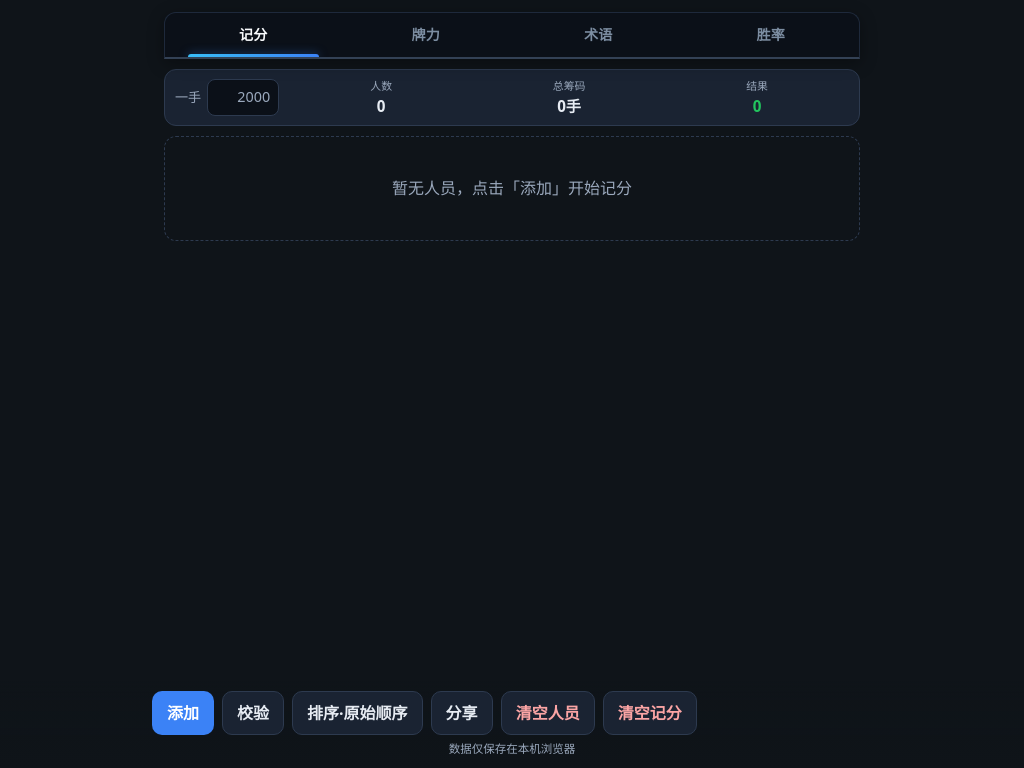
Test case: App integration › validates checksum messages
This screenshot has width=1024, height=768.
Step 1. Click the button "添加" → [183, 713], box [152,691,214,735]
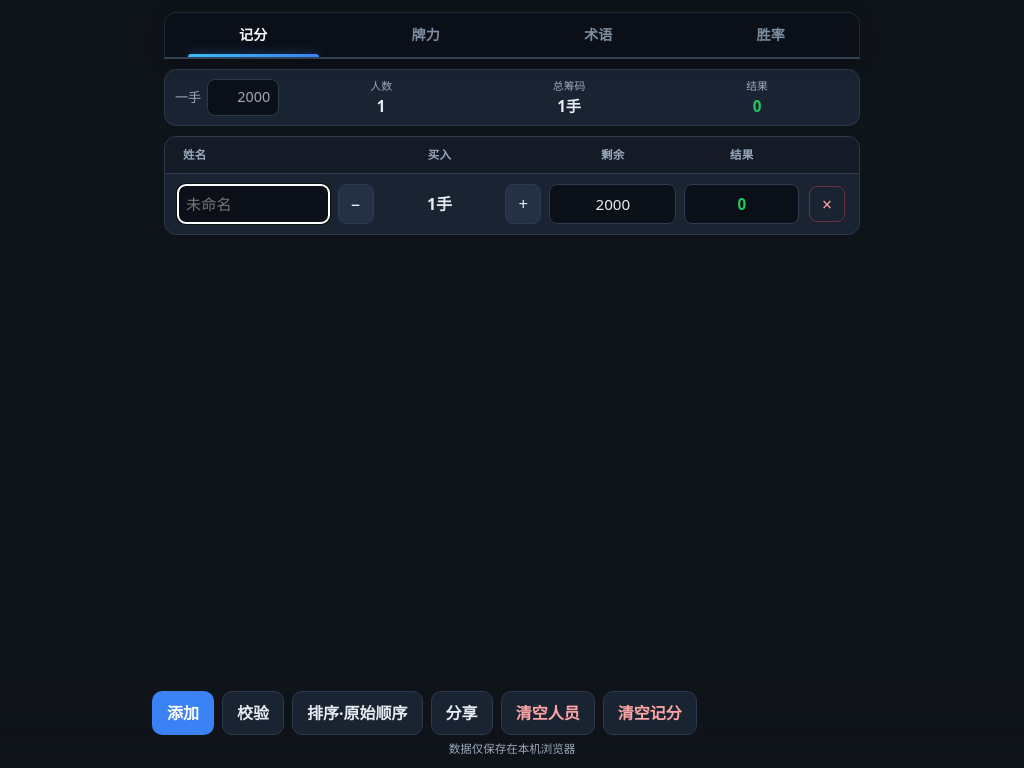
Step 2. Click the button "校验" → [253, 713], box [222,691,284,735]
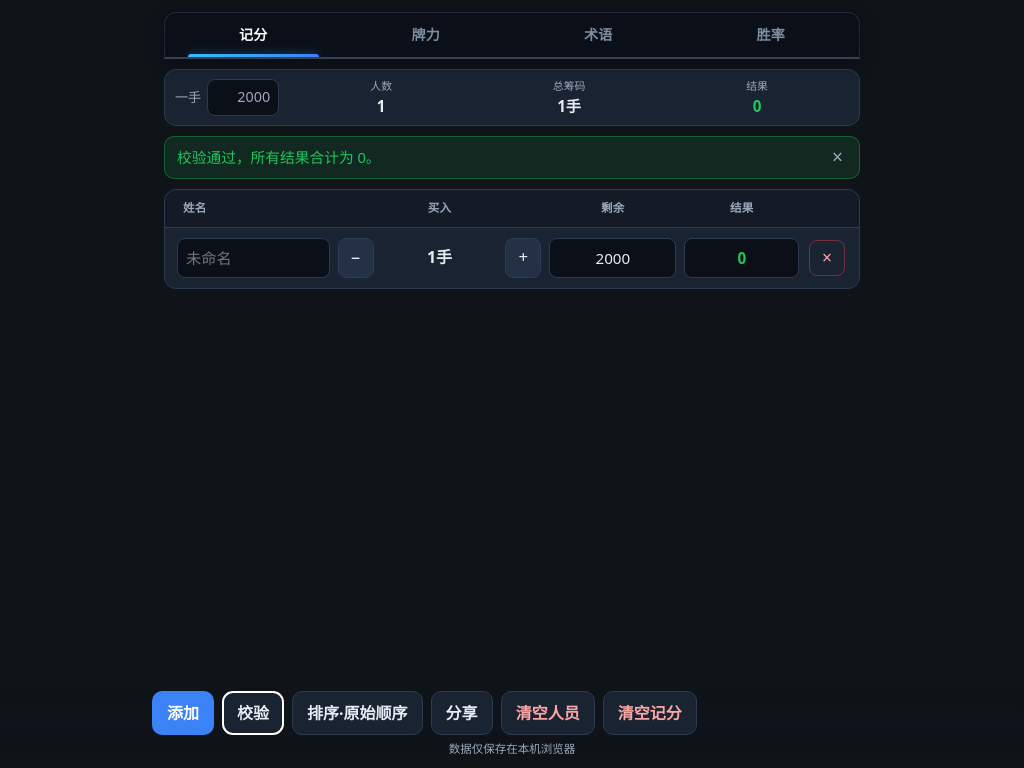
Expected: the message shows "校验通过", [177,147,381,167]
Step 3. Replace the text in the field named "剩余" with "2100" → [613, 258], box [549,238,676,278]
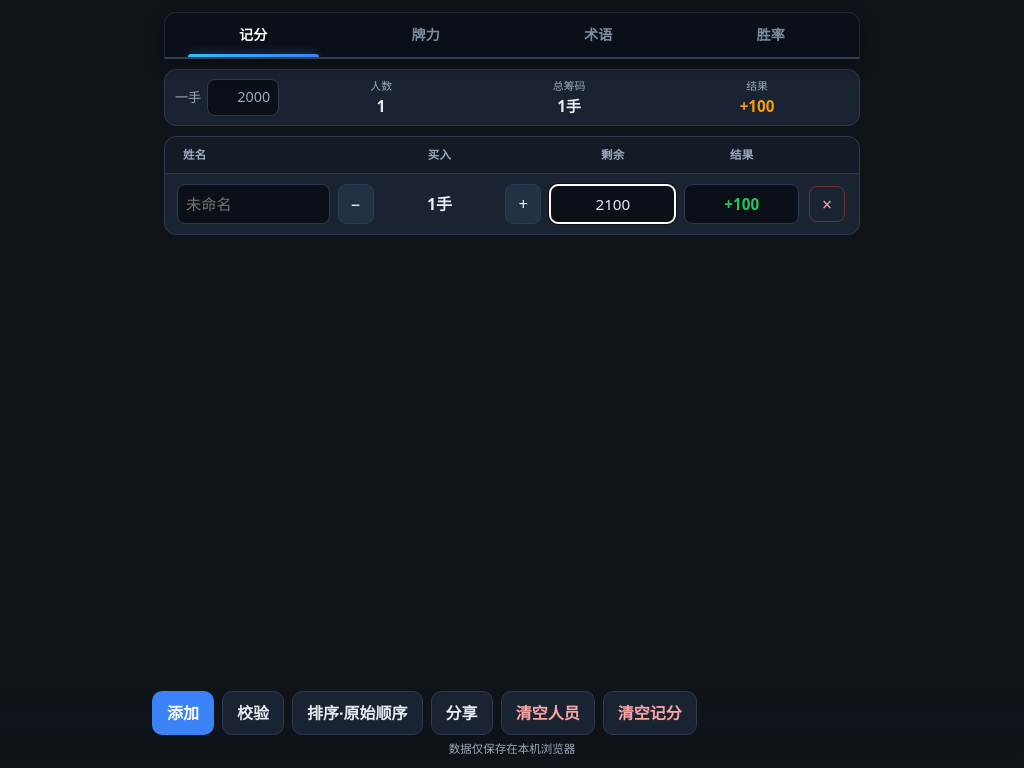
Step 4. Click the button "校验" → [253, 713], box [222,691,284,735]
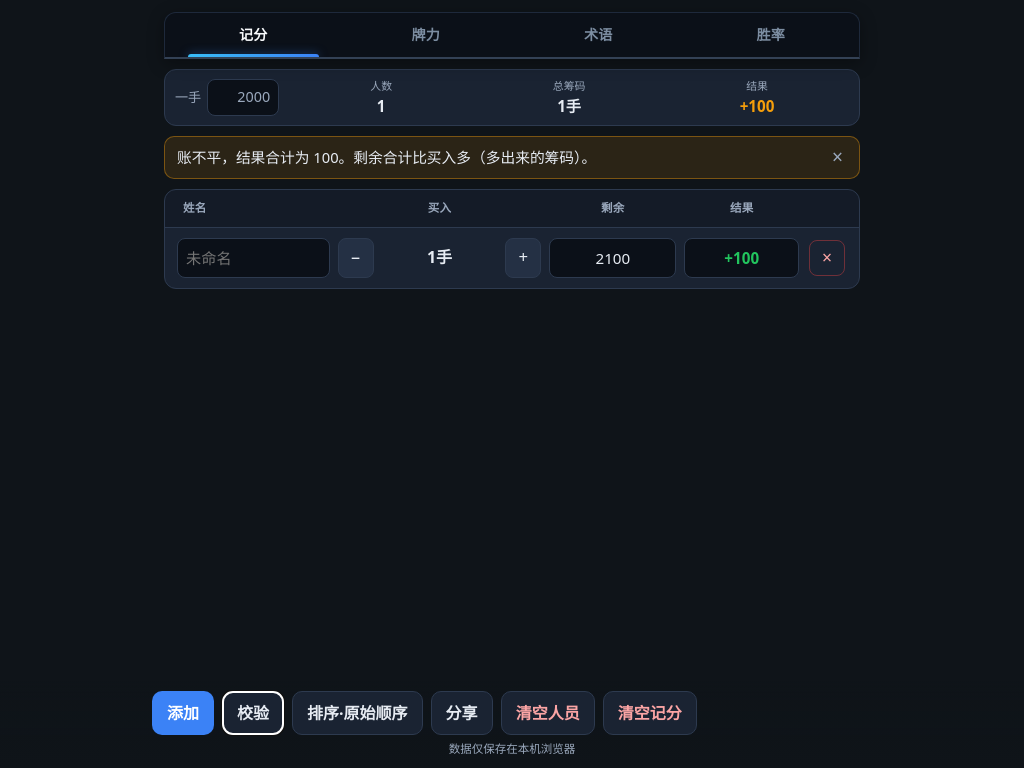
Expected: the message shows "多出来的筹码", [177,147,596,167]
